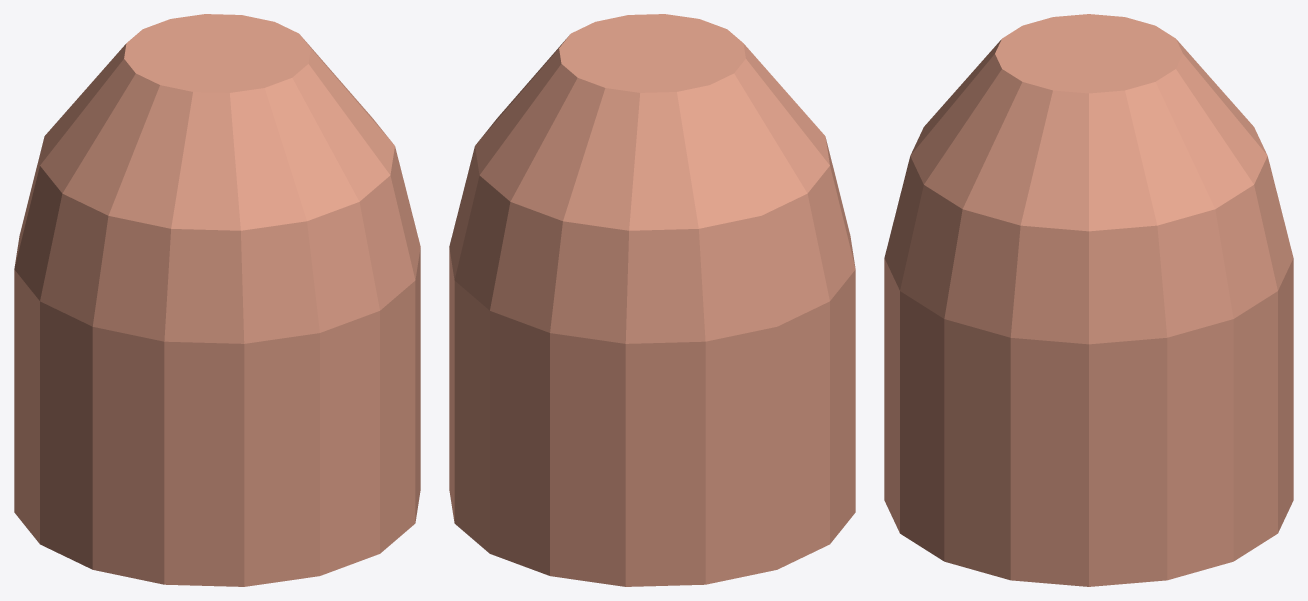
File: 9x18Makarov.fbx
3 views of the same model, side by side, from view 1: azimuth 30°, elevation 25°; view 2: azimuth 150°, elevation 25°; view 3: azimuth 270°, elevation 25° (orthographic).
Parts seen in each view (by area): view 1: Cylinder.008; view 2: Cylinder.008; view 3: Cylinder.008.
Part boxes in pixels (x1,y1,x2,y2): Cylinder.008: [14, 14, 420, 586]; Cylinder.008: [449, 14, 855, 586]; Cylinder.008: [884, 14, 1293, 586].
Bounding box in the file's own units: 0.9743 × 1.17 × 0.9743.
